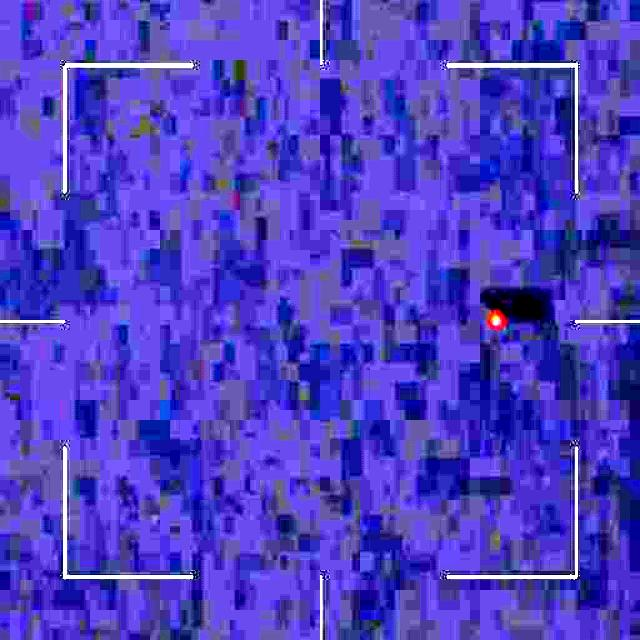bird: (488, 294, 511, 335)
